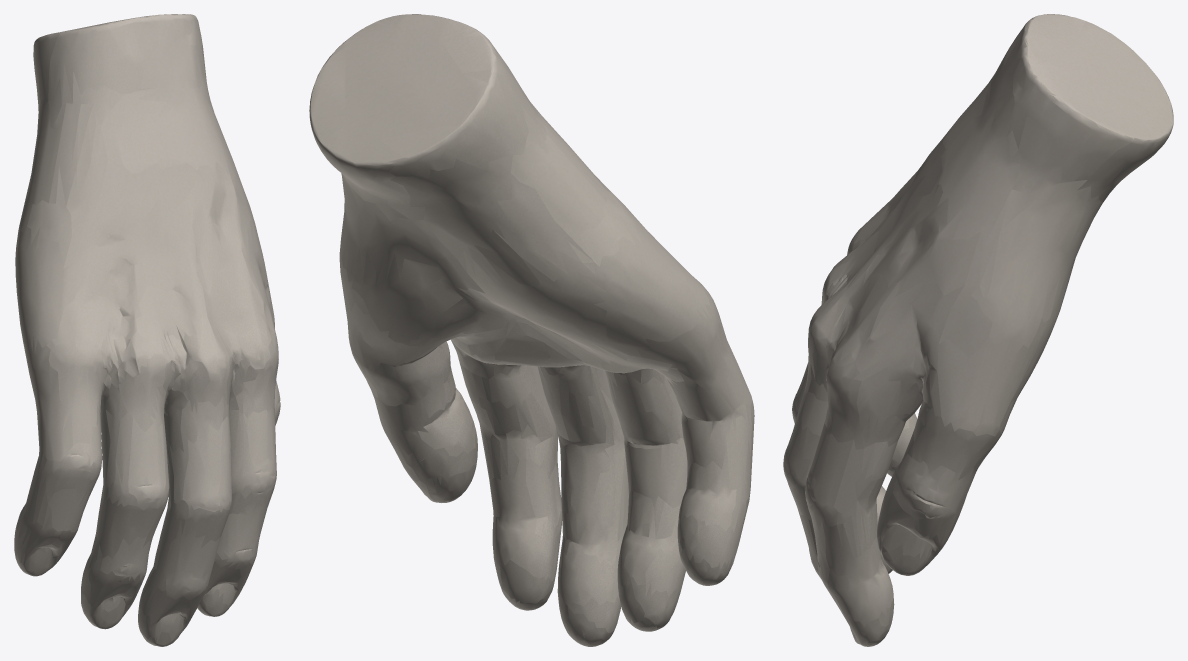
The model's file is mano_rilassata.glb.
The picture shows the model from 3 angles, left to right: view 1: azimuth 30°, elevation 25°; view 2: azimuth 150°, elevation 25°; view 3: azimuth 270°, elevation 25°; orthographic projection. The views are drawn at different scales.
Parts seen in each view (by area): view 1: Mesh_0; view 2: Mesh_0; view 3: Mesh_0.
Boxes of the visible parts, bbox=[...] form: Mesh_0: bbox=[14, 14, 280, 646]; Mesh_0: bbox=[309, 14, 754, 646]; Mesh_0: bbox=[783, 14, 1173, 646].
Bounding box in the file's own units: 1.01 × 1.9 × 1.07.
Materials: 1 (1 with a texture image).
